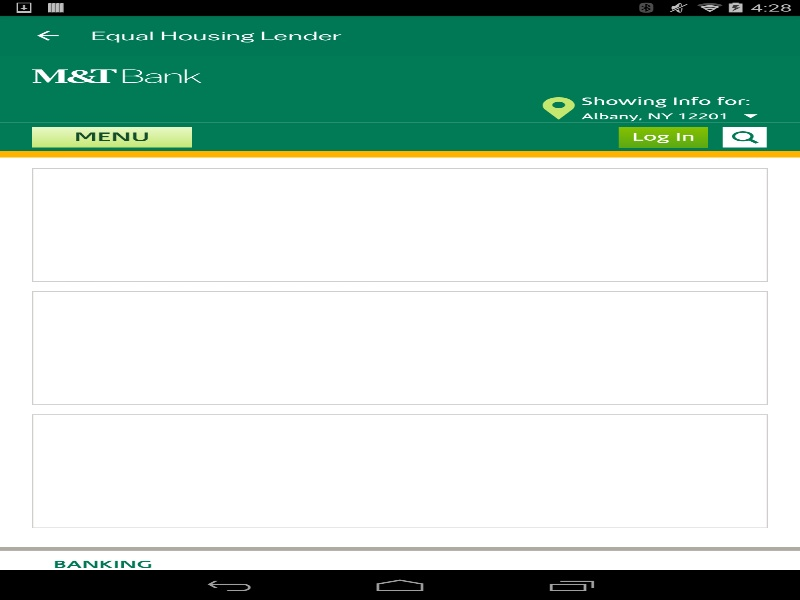Button: (32, 101, 192, 121), (10, 18, 85, 53), (618, 101, 709, 122), (722, 101, 766, 121)
